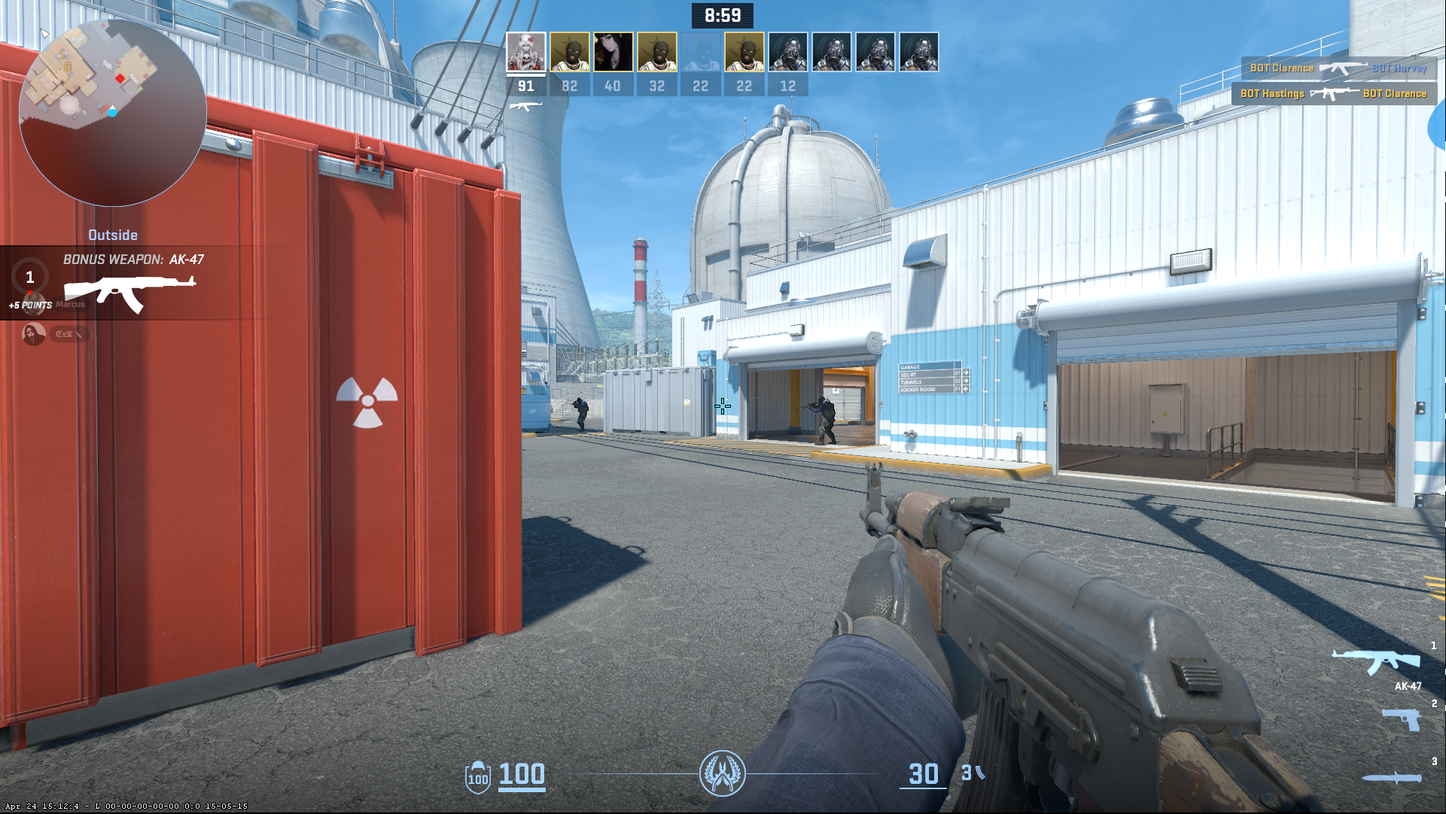CT: (811, 396, 838, 445), (574, 397, 589, 432)
